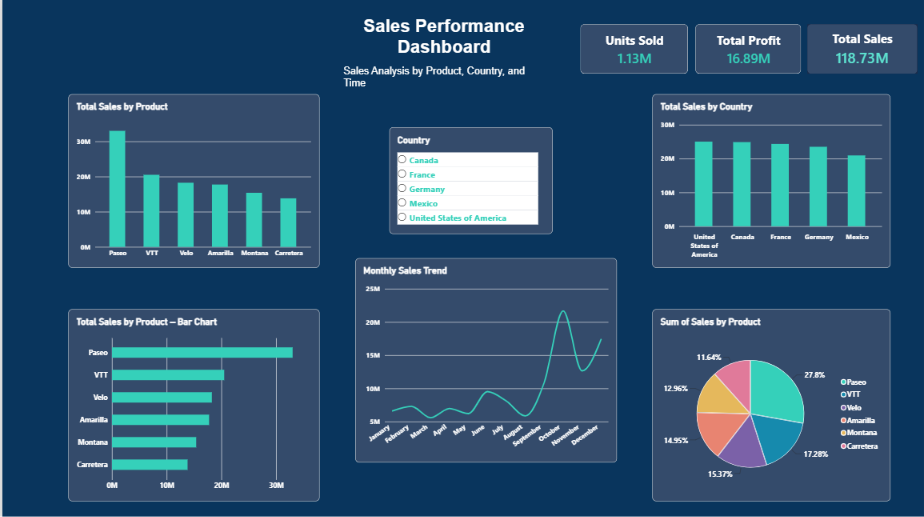

What the dashboard file says about the page in this screenshot:
{"tool":"powerbi","page":{"name":"Page ١","canvas":[1920,1080],"ordinal":0},"visuals":[{"type":"clusteredColumnChart","title":"Total Sales by Product","fields":{"Category":["financials.Product"],"Y":["Sum(financials.Sales)"]},"box":[137.5,197.3,523,361.9],"z":0},{"type":"clusteredColumnChart","title":"Total Sales by Country","fields":{"Category":["financials.Country"],"Y":["Sum(financials.Sales)"]},"box":[1353.6,197.3,495.8,361.9],"z":1000},{"type":"clusteredBarChart","title":"Total Sales by Product – Bar Chart","fields":{"Category":["financials.Product"],"Y":["Sum(financials.Sales)"]},"box":[137.5,646,523,399.9],"z":2000},{"type":"pieChart","fields":{"Category":["financials.Product"],"Y":["Sum(financials.Sales)"]},"box":[1353.6,646,495.8,399.9],"z":2001},{"type":"lineChart","title":"Monthly Sales Trend","fields":{"Category":["financials.Date.Variation.Date Hierarchy.Month","financials.Date.Variation.Date Hierarchy.Day"],"Y":["Sum(financials.Sales)"]},"box":[734.7,539.3,544.7,425.3],"z":2002},{"type":"listSlicer","fields":{"Values":["financials.Country"]},"box":[807.1,266,340.2,222.6],"z":2003},{"type":"textbox","box":[100,100,300,300],"z":2004},{"type":"textbox","box":[711.2,32.6,419.8,182.8],"z":2005},{"type":"cardVisual","fields":{"Data":["Sum(financials.Sales)"]},"box":[1677.6,52.5,229.8,103.2],"z":2006},{"type":"cardVisual","fields":{"Data":["Sum(financials.Profit)"]},"box":[1444.1,52.5,220.8,103.2],"z":2007},{"type":"cardVisual","fields":{"Data":["Sum(financials.Units Sold)"]},"box":[1203.4,52.5,224.4,103.2],"z":2008}]}

Visuals, with their boxes in screenshot pixels (x1, y1, x2, y2), scaled from the page's 1920x1080 canvas onto the 924x517 screenshot:
"Total Sales by Product" clusteredColumnChart: BBox(66, 94, 318, 268)
"Total Sales by Country" clusteredColumnChart: BBox(651, 94, 890, 268)
"Total Sales by Product – Bar Chart" clusteredBarChart: BBox(66, 309, 318, 501)
pieChart - financials.Product x Sum(financials.Sales): BBox(651, 309, 890, 501)
"Monthly Sales Trend" lineChart: BBox(354, 258, 616, 462)
listSlicer - financials.Country: BBox(388, 127, 552, 234)
textbox: BBox(48, 48, 192, 191)
textbox: BBox(342, 16, 544, 103)
cardVisual - Sum(financials.Sales): BBox(807, 25, 918, 75)
cardVisual - Sum(financials.Profit): BBox(695, 25, 801, 75)
cardVisual - Sum(financials.Units Sold): BBox(579, 25, 687, 75)
